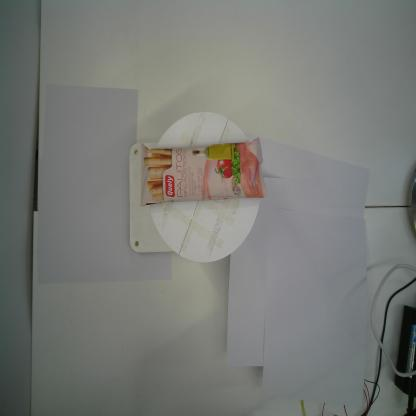Dessert: (137, 134, 269, 209)
